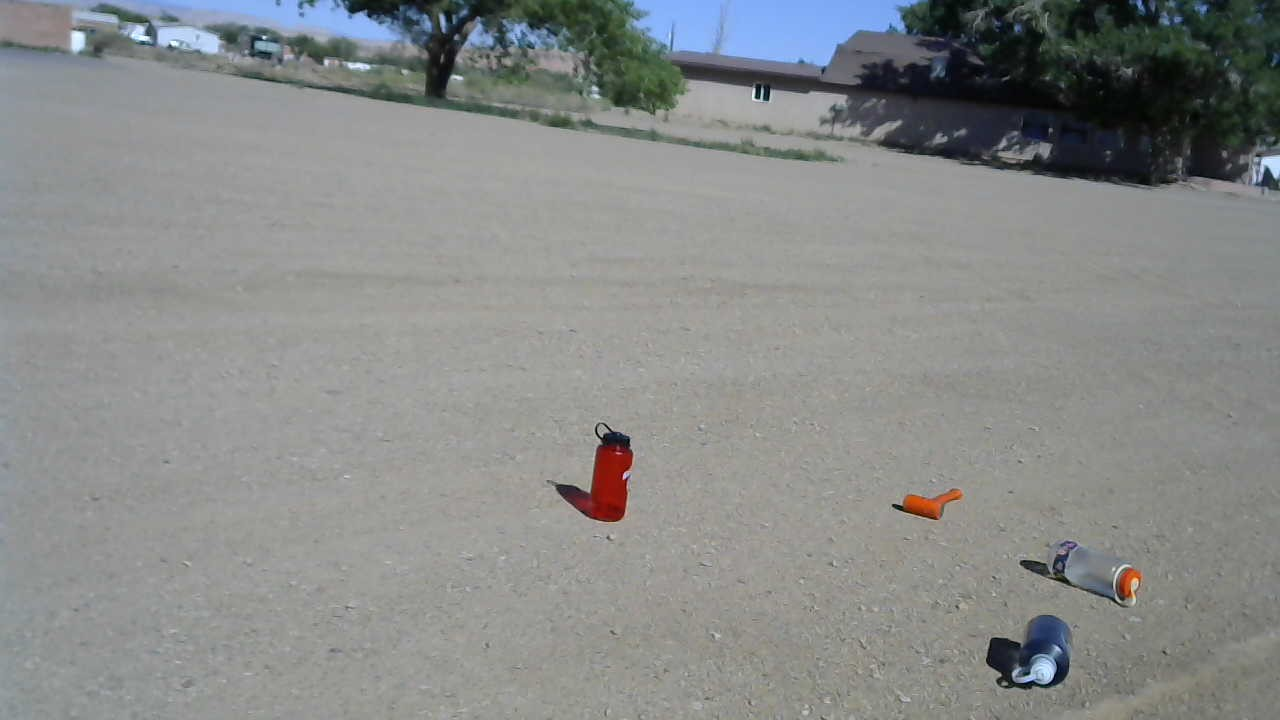bottle: (1048, 532, 1143, 611), (1010, 609, 1074, 690), (589, 420, 632, 522)
hammer: (901, 483, 964, 522)
